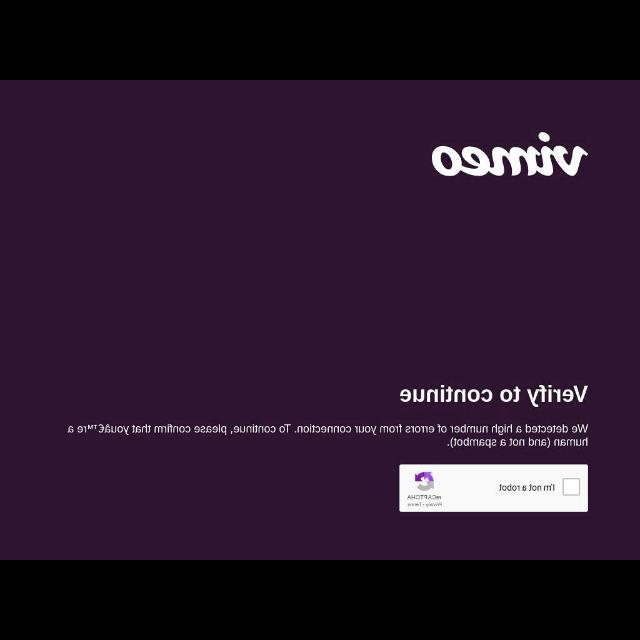checkbox: (562, 478, 580, 496)
image: (430, 130, 592, 180), (412, 472, 438, 492)
text: (66, 424, 590, 448), (398, 383, 588, 405), (496, 482, 556, 492), (406, 494, 442, 508)
